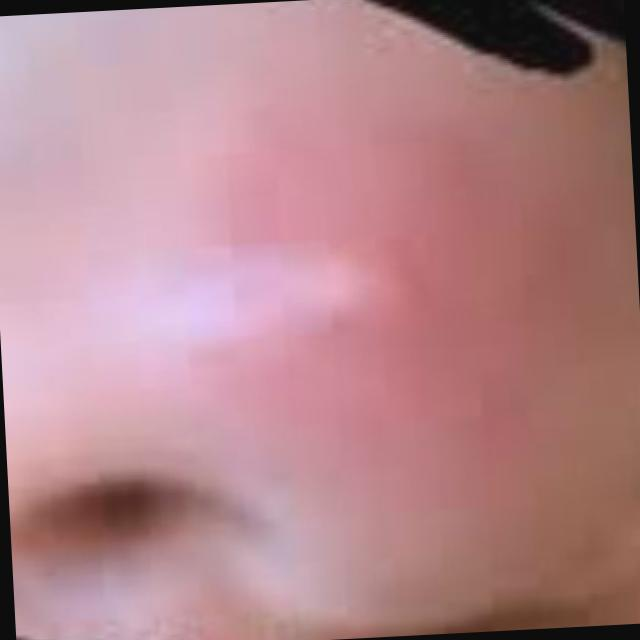nodule: (256, 234, 434, 378)
